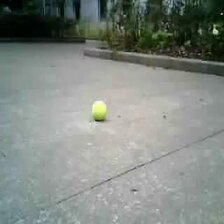tennis: (92, 100, 106, 119)
